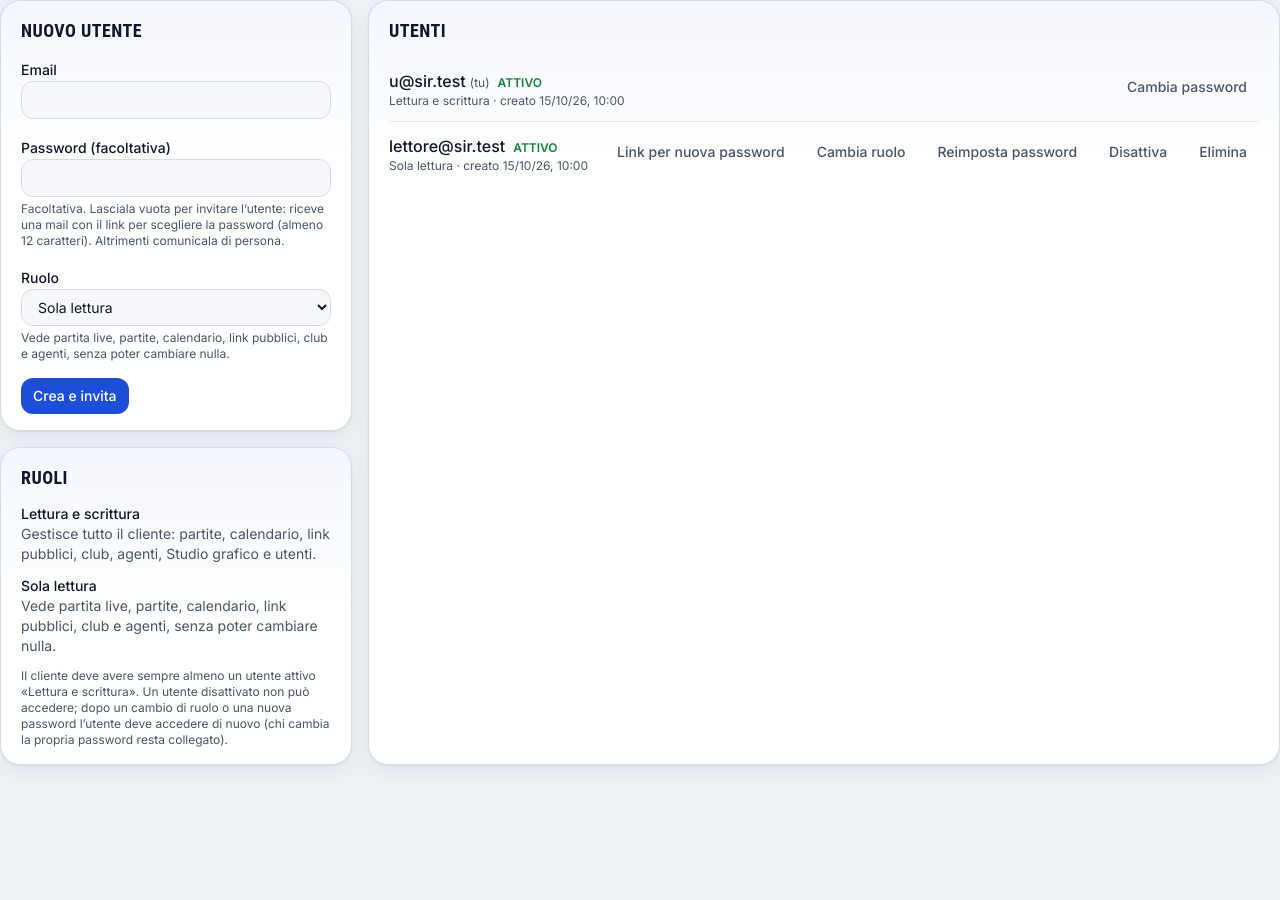
Test: «Utenti» page › sets a new password only when it is long enough
Click the button "Reimposta password": (1007, 152) [925, 134, 1089, 170]
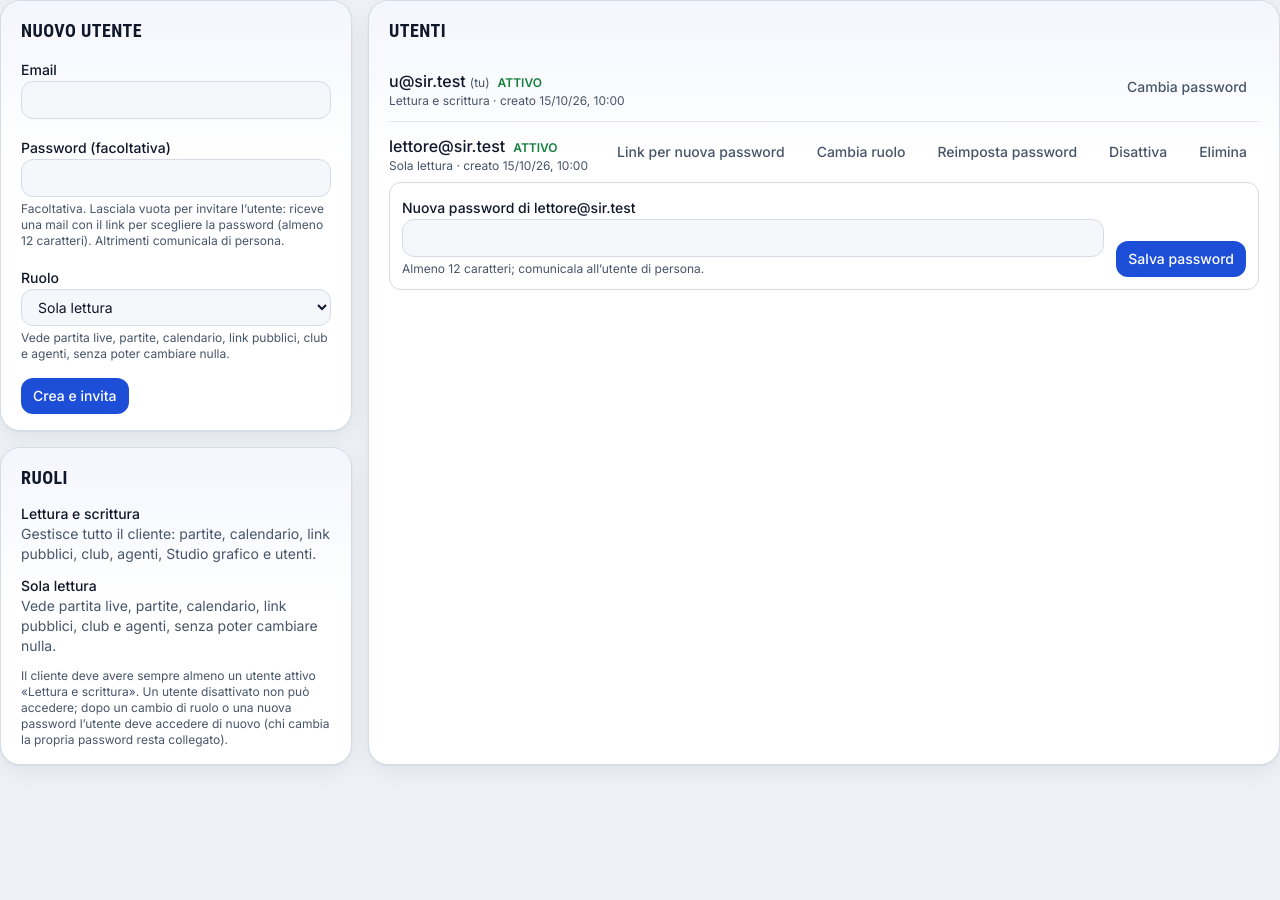
In the password field labelled "Nuova password di lettore@sir.test": (753, 238) [402, 219, 1104, 257], type "corta"
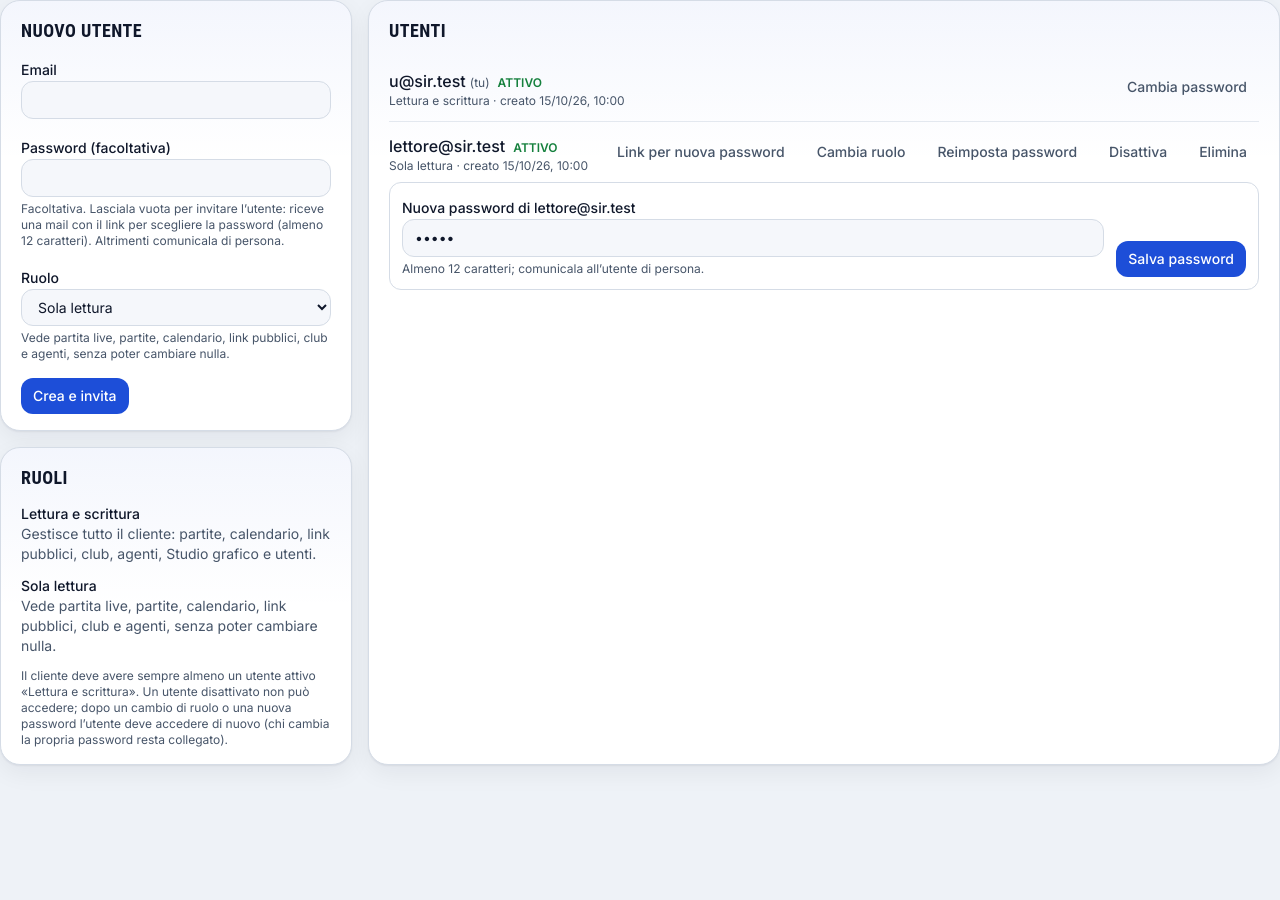
Click the button "Salva password": (1181, 259) [1116, 241, 1246, 277]
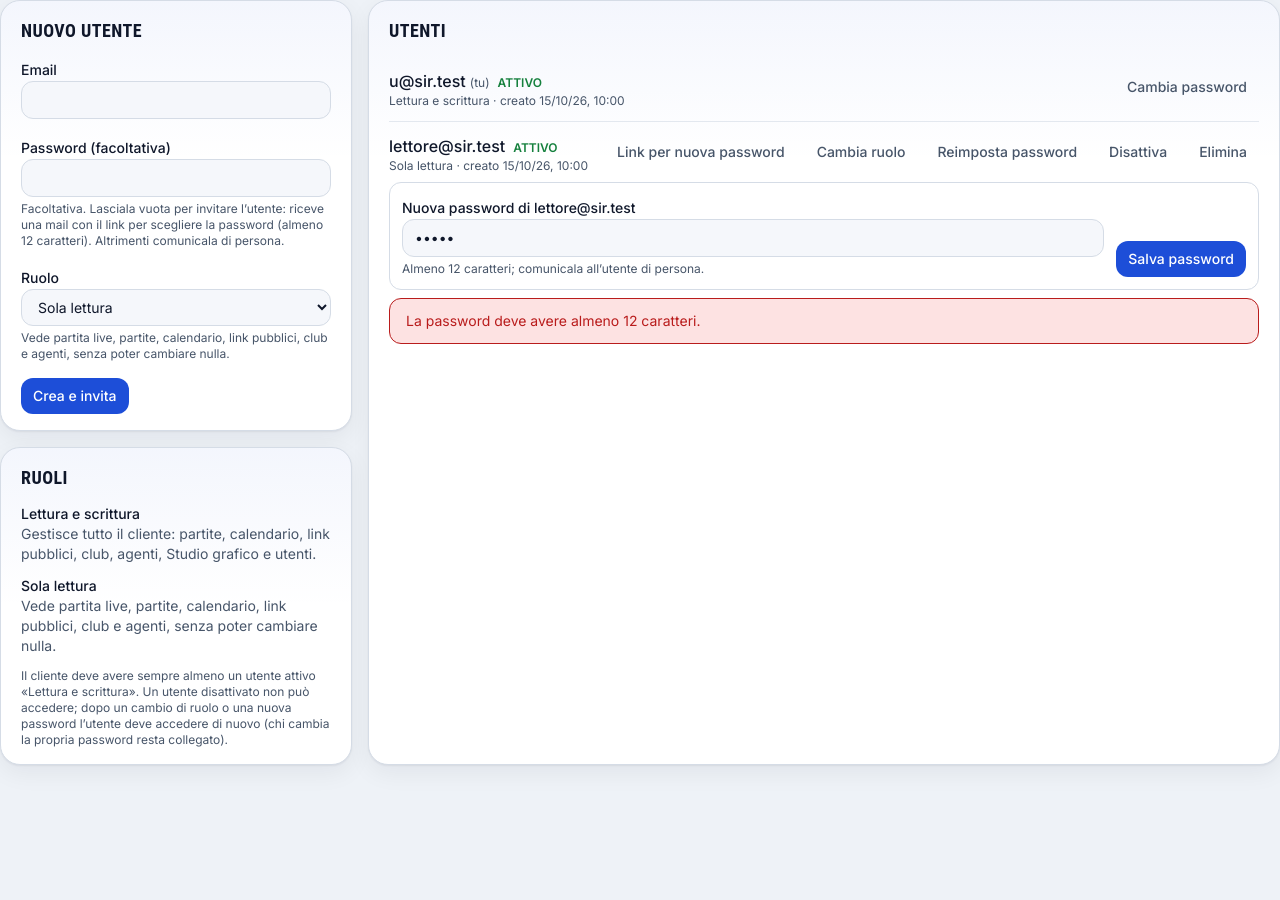
Expected: the text "La password deve avere almeno 12 caratteri." is shown, [406, 311, 700, 331]
In the password field labelled "Nuova password di lettore@sir.test": (753, 238) [402, 219, 1104, 257], type "una-password-lunga"
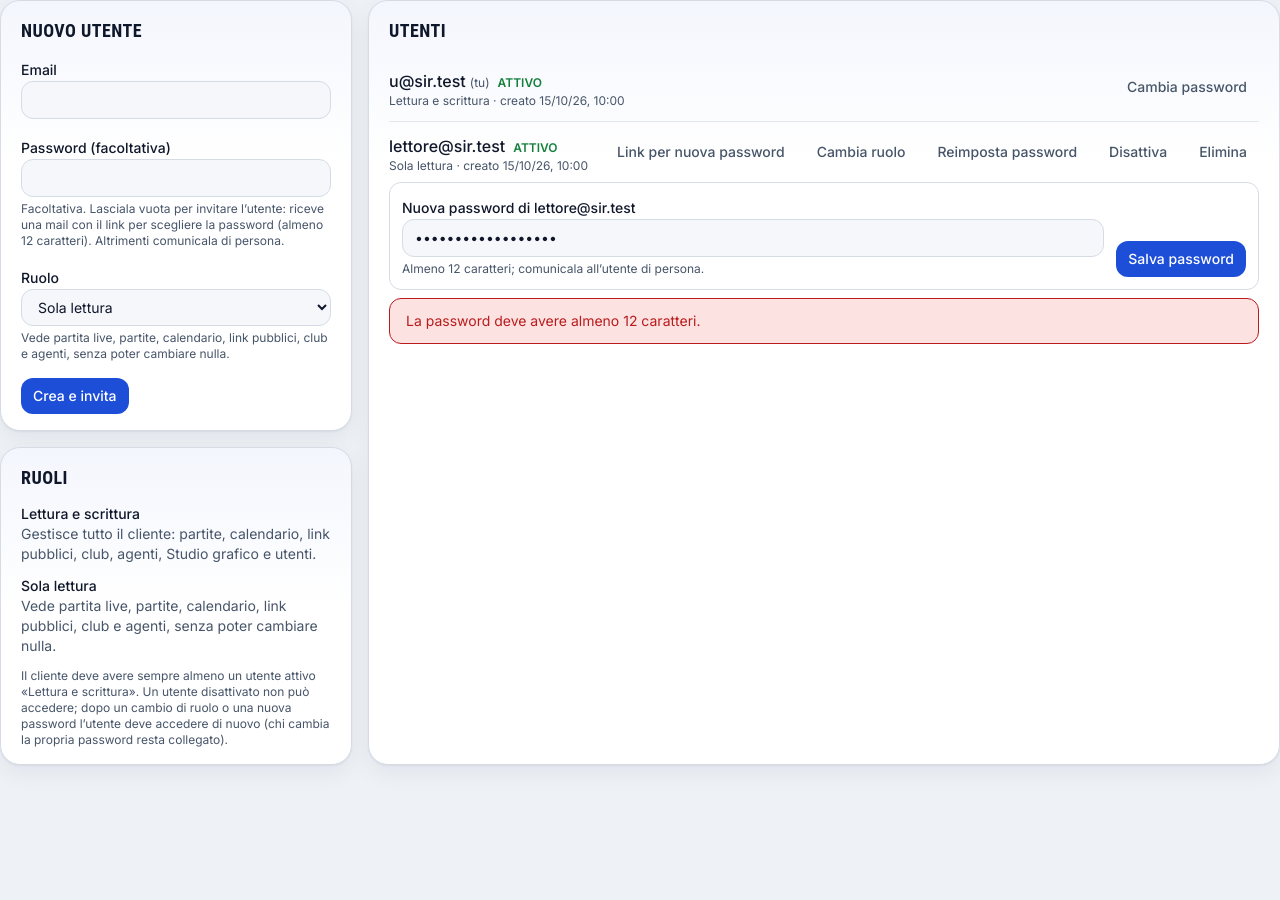
Click the button "Salva password": (1181, 259) [1116, 241, 1246, 277]
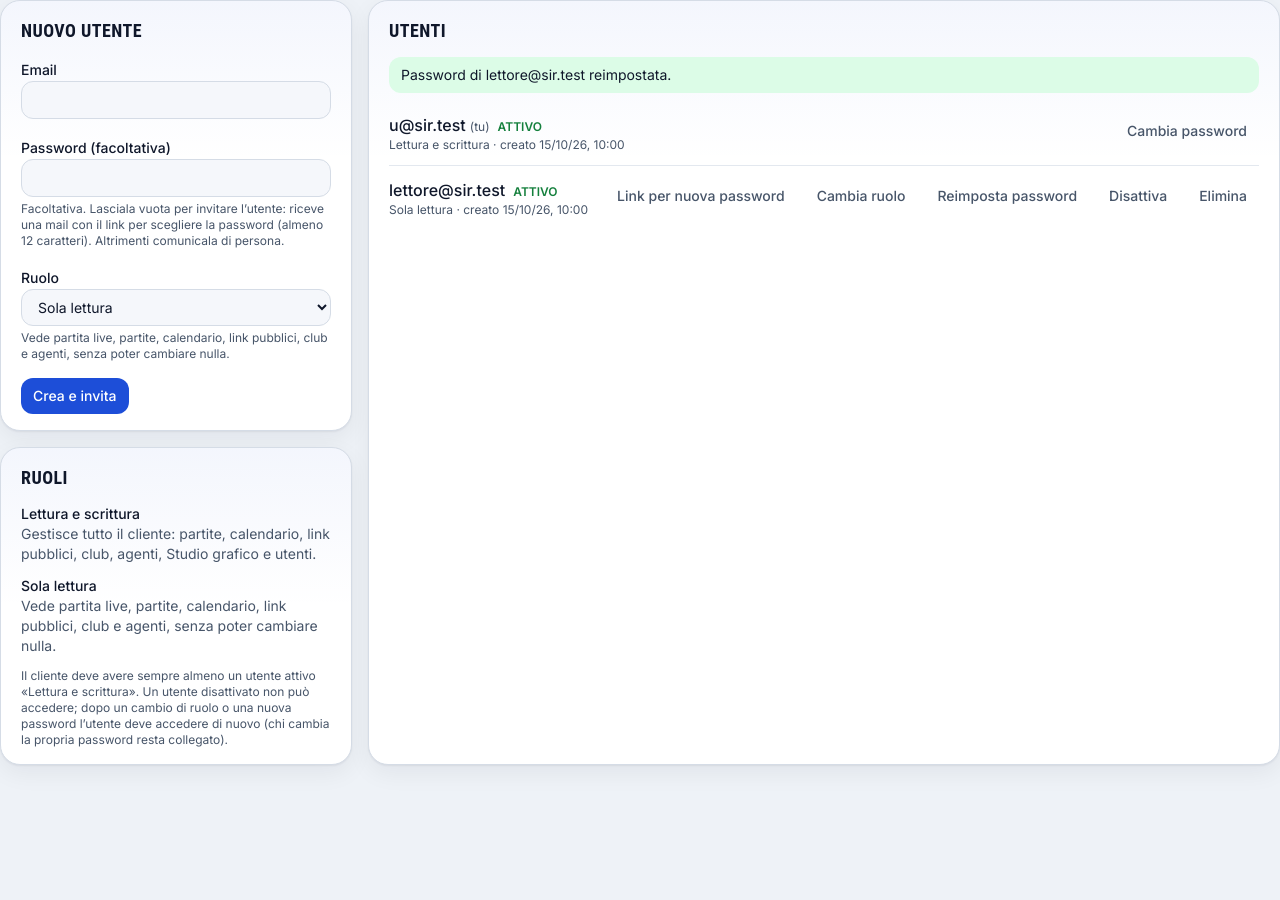
Expected: the text "Password di lettore@sir.test reimpostata." is shown, [389, 57, 1259, 93]
